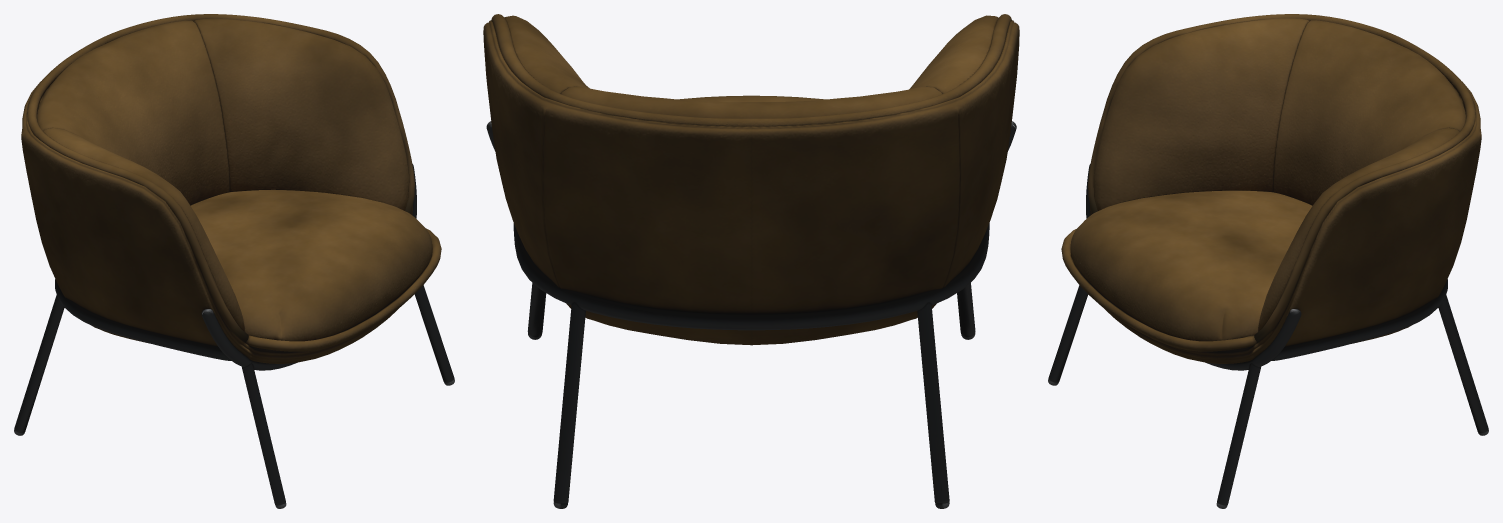
Rendered from chairs-portfolio_02-v1.glb.
The picture shows the model from 3 angles, left to right: view 1: azimuth 30°, elevation 25°; view 2: azimuth 150°, elevation 25°; view 3: azimuth 270°, elevation 25°; orthographic projection. The views are drawn at different scales.
Parts seen in each view (by area): view 1: 02; view 2: 02; view 3: 02.
Part boxes in pixels (x1,y1,x2,y2): 02: (14, 14, 454, 508); 02: (483, 14, 1019, 508); 02: (1048, 14, 1488, 508).
Size of the model in its own units: 0.9042 by 0.7148 by 0.8974.
1 material, 1 textured.
